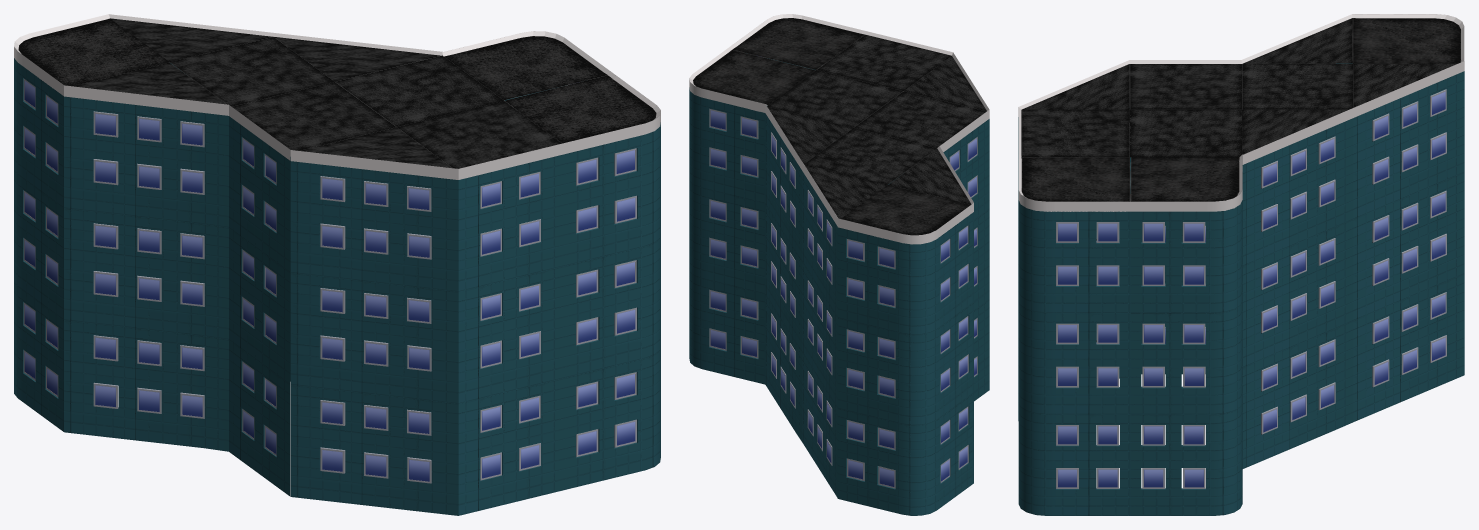
File: BuildingA1.fbx
3 views of the same model, side by side, from view 1: azimuth 30°, elevation 25°; view 2: azimuth 150°, elevation 25°; view 3: azimuth 270°, elevation 25° (orthographic). The views are drawn at different scales.
Parts seen in each view (by area): view 1: pCube2 (×4), pCube6 (×2), pCube10 (×2), cornerBuilding (×3), pCube3 (×4), cornerBuilding2 (×2), pCube7 (×2), corner:pCube2, cornerBuilding4 (×2), corner:cornerBuilding, corner:pCube3, corner:cornerBuilding2 (+5 smaller); view 2: cornerBuilding4 (×2), cornerBuilding (×2), cornerBuilding3 (×2), cornerBuilding2 (×2), pCube3 (×4), pCube8 (×2), pCube2 (×2), pCube9 (×2), pCube4, corner:cornerBuilding2, corner:pCube3, soloRoof (+8 smaller); view 3: cornerBuilding (×3), cornerBuilding3 (×2), pCube9 (×2), pCube2 (×2), pCube8 (×2), pCube3 (×4), cornerBuilding2 (×2), corner:cornerBuilding, corner:cornerBuilding2, pCube4, soloRoof, corner:pCube3 (+13 smaller).
Boxes of the visible parts, x1,y1,x2,y2 form: pCube2 (×4): (64,96,565,515); pCube6 (×2): (291,273,458,515); pCube10 (×2): (64,208,228,451); cornerBuilding (×3): (14,58,660,489); pCube3 (×4): (64,14,458,179); cornerBuilding2 (×2): (14,14,610,100); pCube7 (×2): (229,228,290,496); corner:pCube2: (458,154,565,291); cornerBuilding4 (×2): (14,170,63,431); corner:cornerBuilding: (565,122,660,265); corner:pCube3: (397,101,565,179); corner:cornerBuilding2: (505,71,660,153); cornerBuilding4 (×2): (837,302,973,515); cornerBuilding (×2): (689,87,973,334); cornerBuilding3 (×2): (689,178,765,384); cornerBuilding2 (×2): (689,47,973,244); pCube3 (×4): (765,52,989,225); pCube8 (×2): (765,204,801,441); pCube2 (×2): (765,113,837,316); pCube9 (×2): (802,261,837,497); pCube4: (854,91,989,151); corner:cornerBuilding2: (730,14,866,69); corner:pCube3: (817,31,952,90); soloRoof: (767,70,903,127); cornerBuilding (×3): (1018,200,1242,515); cornerBuilding3 (×2): (1130,301,1242,515); pCube9 (×2): (1353,172,1464,421); pCube2 (×2): (1242,71,1464,265); pCube8 (×2): (1242,220,1353,468); pCube3 (×4): (1018,14,1464,164); cornerBuilding2 (×2): (1130,14,1464,211); corner:cornerBuilding: (1018,200,1130,313); corner:cornerBuilding2: (1018,155,1130,211); pCube4: (1129,60,1241,109); soloRoof: (1129,109,1241,157); corner:pCube3: (1018,107,1129,157).
Size of the model in its own units: 39.67 by 31 by 39.87.
